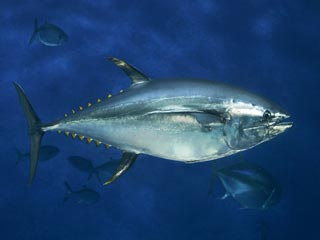Bluefina Tuna: (12, 46, 301, 190)
